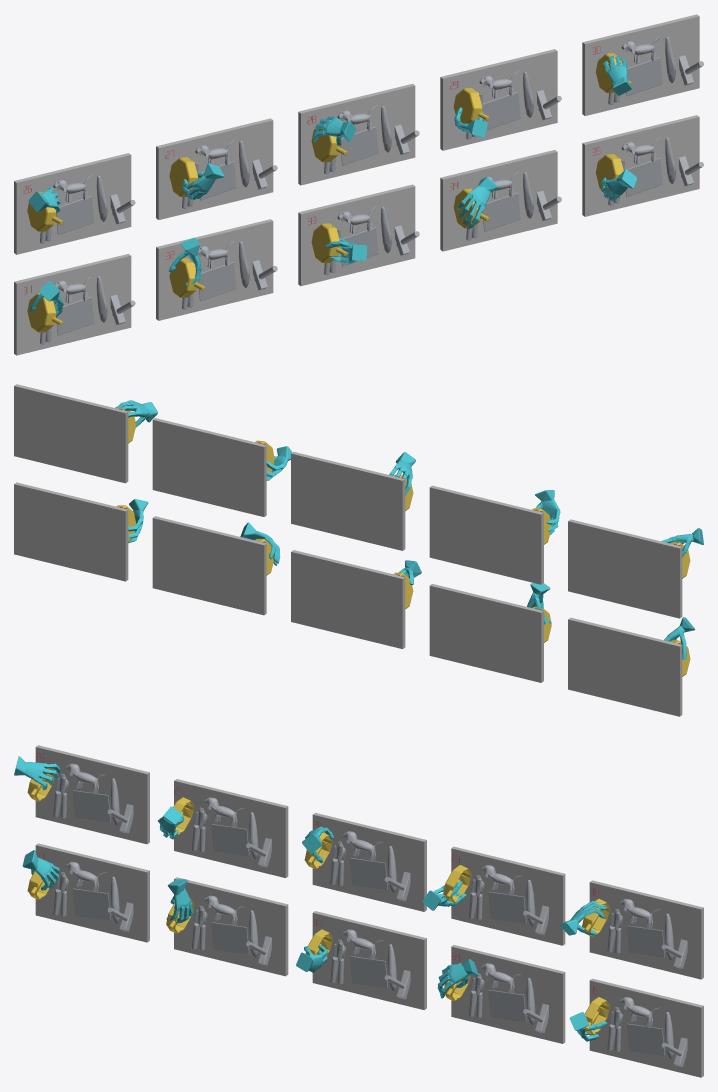
File: scene_0000_object_014_ranks_26_35_5x2.glb
The picture shows the model from 3 angles, top to bottom: view 1: azimuth 30°, elevation 25°; view 2: azimuth 150°, elevation 25°; view 3: azimuth 330°, elevation 25°; orthographic projection. The views are drawn at different scales.
Parts seen in each view (by area): view 1: rank_33_table, rank_30_table, rank_35_table, rank_27_table, rank_26_table, rank_29_table, rank_34_table, rank_31_table, rank_28_table, rank_32_table, rank_34_object_011, rank_26_object_011 (+16 smaller); view 2: rank_27_table, rank_33_table, rank_30_table, rank_32_table, rank_35_table, rank_26_table, rank_29_table, rank_31_table, rank_28_table, rank_34_table; view 3: rank_27_table, rank_30_table, rank_33_table, rank_35_table, rank_29_table, rank_34_table, rank_26_table, rank_28_table, rank_31_table, rank_32_table, rank_32_object_011, rank_34_object_011 (+21 smaller).
Boxes of the visible parts, left/top/right/bottom form: rank_33_table: left=298, top=184, right=415, bottom=285; rank_30_table: left=582, top=14, right=699, bottom=115; rank_35_table: left=582, top=115, right=699, bottom=216; rank_27_table: left=156, top=118, right=273, bottom=219; rank_26_table: left=14, top=153, right=131, bottom=254; rank_29_table: left=440, top=49, right=557, bottom=150; rank_34_table: left=440, top=150, right=557, bottom=251; rank_31_table: left=14, top=254, right=131, bottom=355; rank_28_table: left=298, top=83, right=415, bottom=185; rank_32_table: left=156, top=219, right=273, bottom=320; rank_34_object_011: left=482, top=192, right=520, bottom=231; rank_26_object_011: left=56, top=196, right=94, bottom=234; rank_27_table: left=429, top=485, right=543, bottom=584; rank_33_table: left=291, top=550, right=405, bottom=649; rank_30_table: left=14, top=384, right=128, bottom=483; rank_32_table: left=429, top=584, right=543, bottom=682; rank_35_table: left=14, top=482, right=128, bottom=581; rank_26_table: left=568, top=519, right=682, bottom=618; rank_29_table: left=152, top=418, right=266, bottom=516; rank_31_table: left=568, top=617, right=682, bottom=716; rank_28_table: left=291, top=452, right=405, bottom=550; rank_34_table: left=152, top=516, right=266, bottom=615; rank_27_table: left=174, top=779, right=288, bottom=877; rank_30_table: left=589, top=880, right=703, bottom=979; rank_33_table: left=312, top=911, right=426, bottom=1009; rank_35_table: left=589, top=978, right=703, bottom=1077; rank_29_table: left=451, top=846, right=565, bottom=945; rank_34_table: left=451, top=945, right=565, bottom=1043; rank_26_table: left=35, top=745, right=149, bottom=844; rank_28_table: left=312, top=812, right=426, bottom=911; rank_31_table: left=35, top=843, right=149, bottom=942; rank_32_table: left=174, top=877, right=288, bottom=976; rank_32_object_011: left=211, top=922, right=249, bottom=954; rank_34_object_011: left=488, top=990, right=526, bottom=1021.
Bounding box in the file's own units: 3 × 0.7397 × 0.2891.
